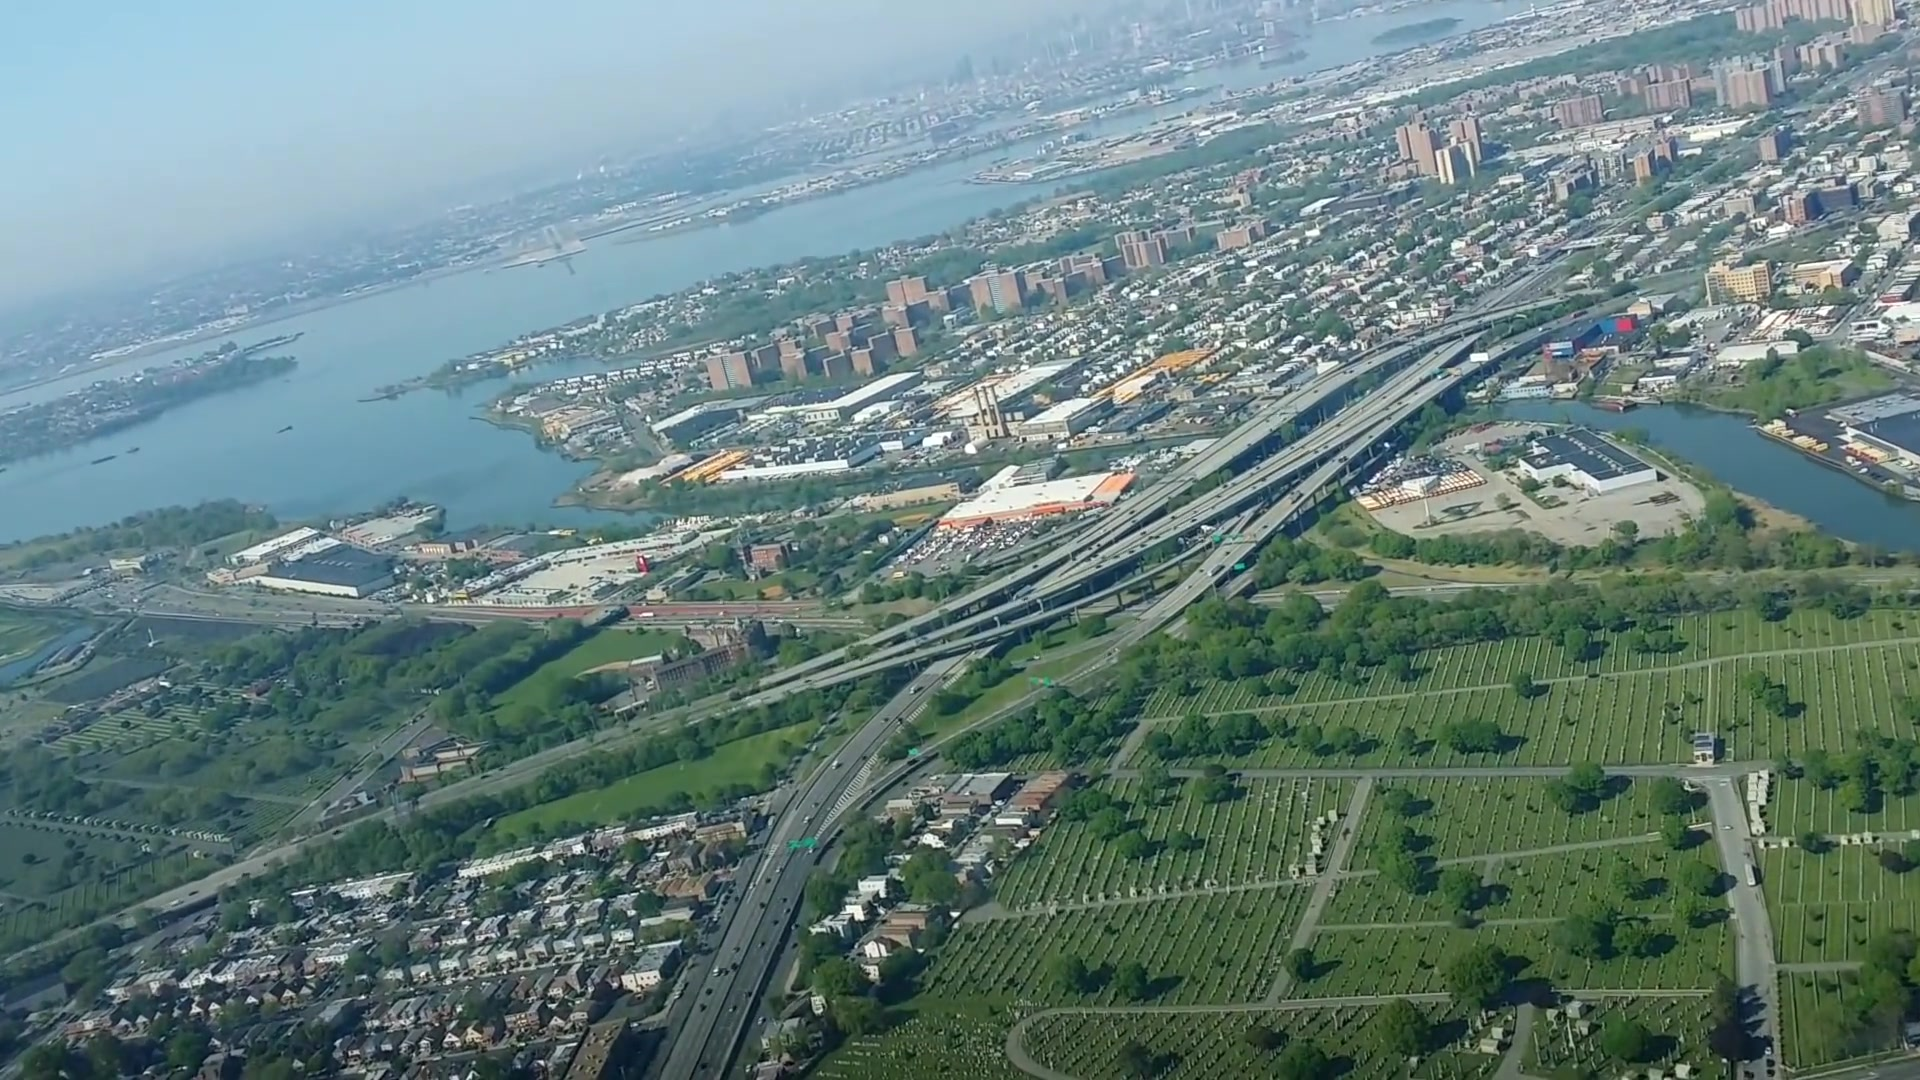runway: (543, 225, 574, 255)
